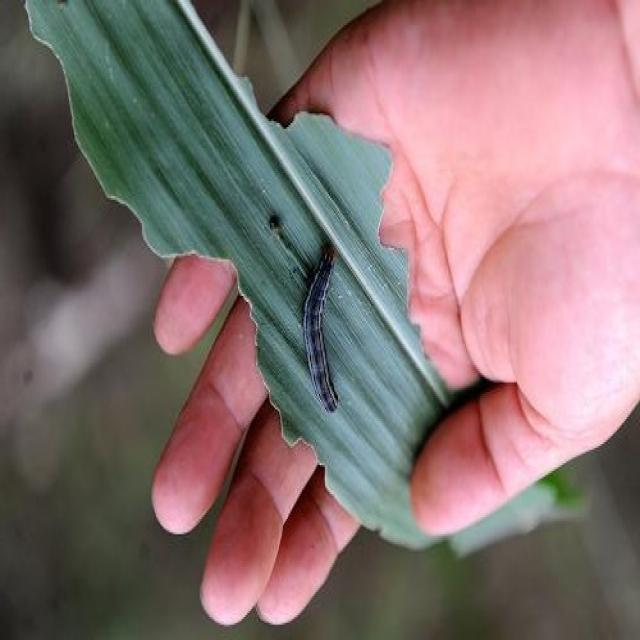army worm: (299, 233, 346, 419)
